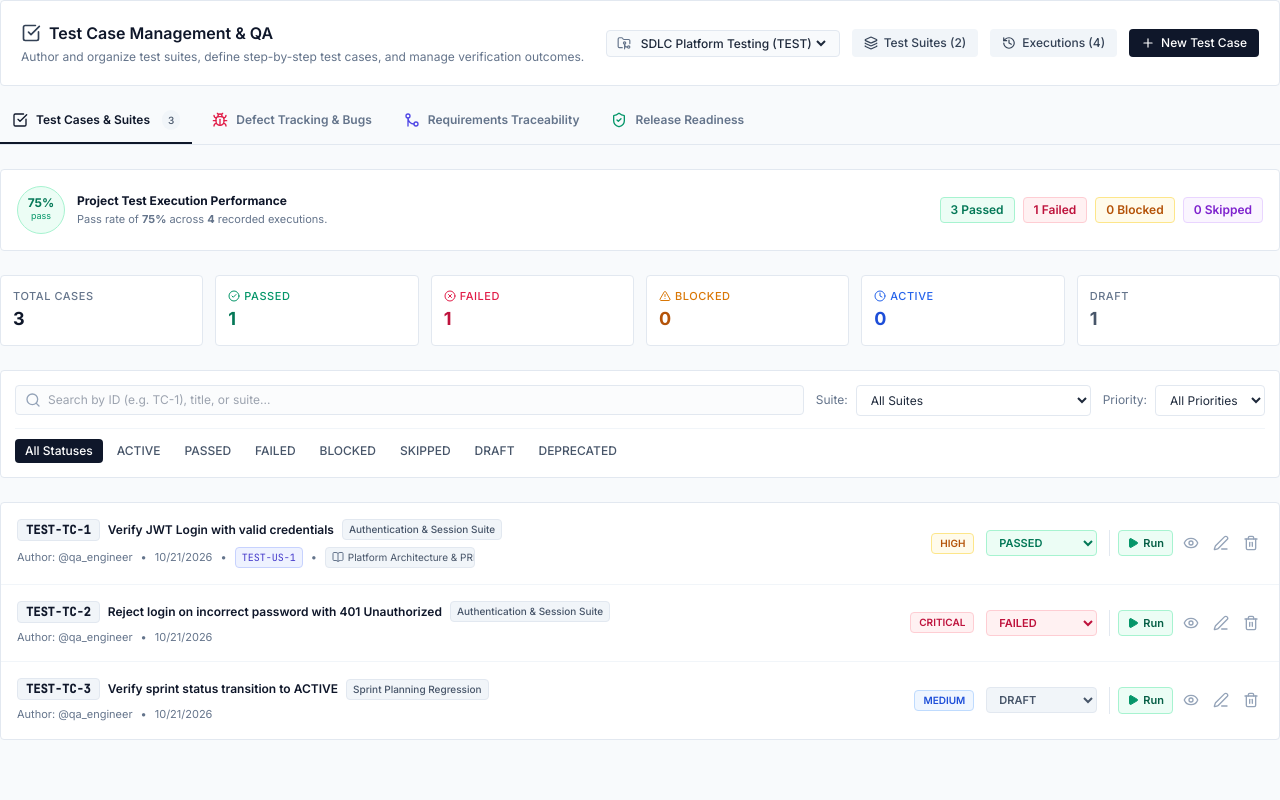
Test: Phase 5: Test Case Management Components › displays execution history inside Test Case details modal
expect the text "TEST-TC-1" is shown: met, box x1=17 y1=518 x2=100 y2=540
# Open detail modal
Step 1. Click the button titled "View Test Case Details" in the row of "HIGH" → {"x": 1191, "y": 543}, box x1=1179 y1=531 x2=1203 y2=555
(page scrolled)
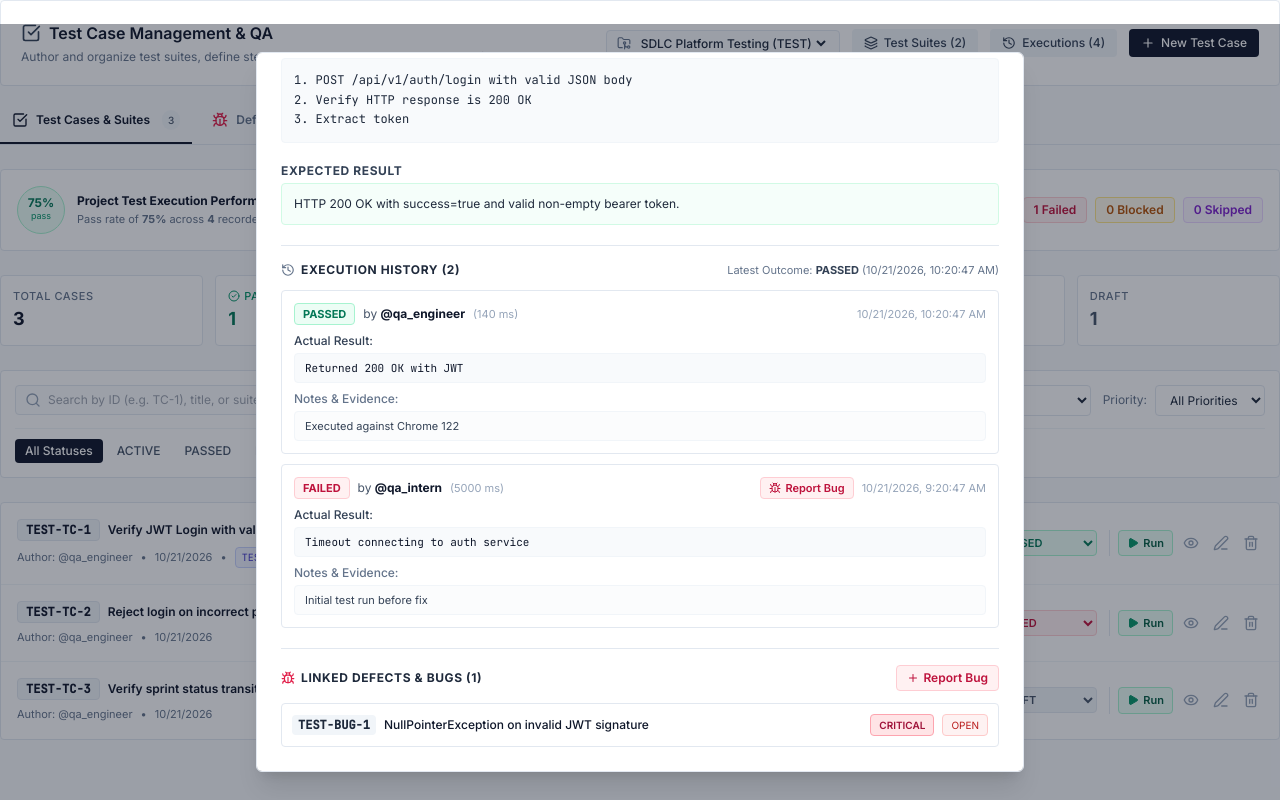
expect the heading "Execution History (2)" is shown: met, box x1=281 y1=262 x2=460 y2=278
expect the text "Returned 200 OK with JWT" is shown: met, box x1=294 y1=353 x2=986 y2=383
expect the text "Timeout connecting to auth service" is shown: met, box x1=294 y1=527 x2=986 y2=557
